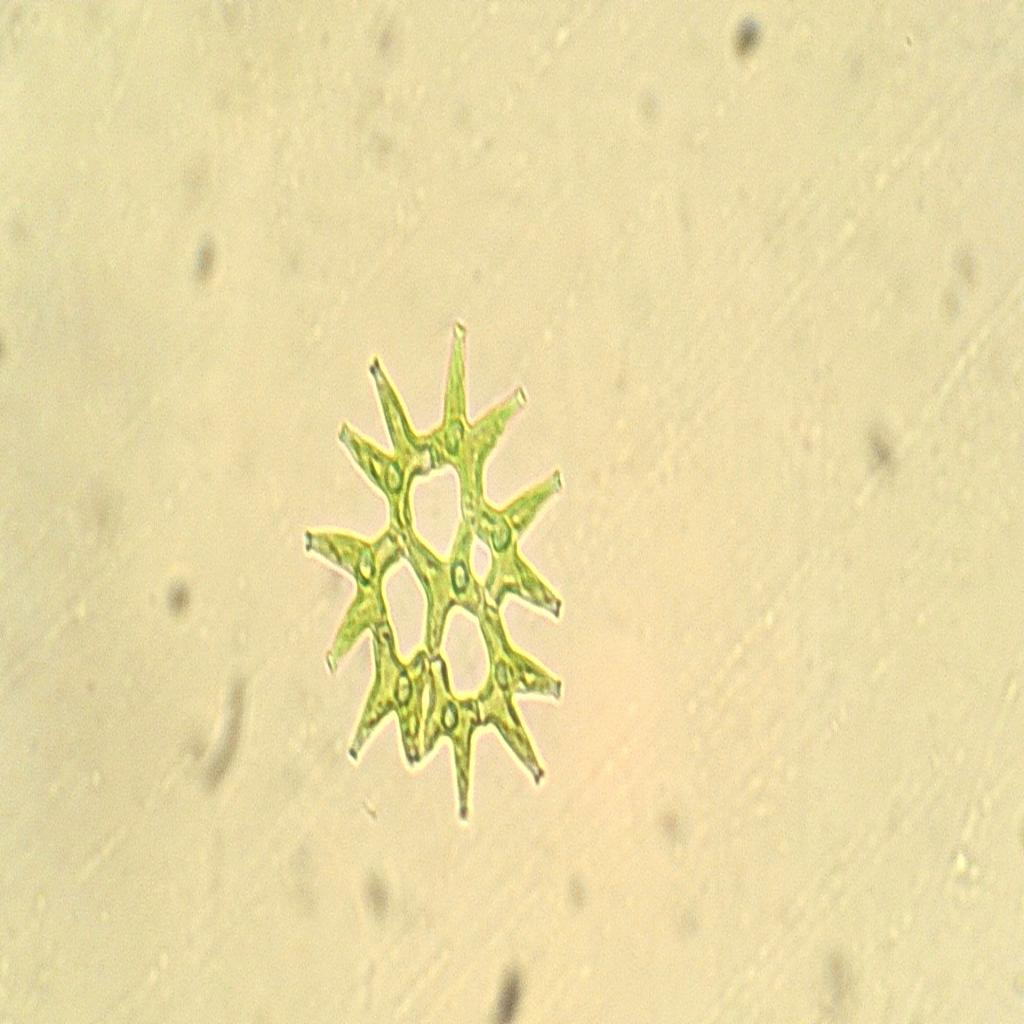Pediastrum_75T: (290, 295, 581, 847)
